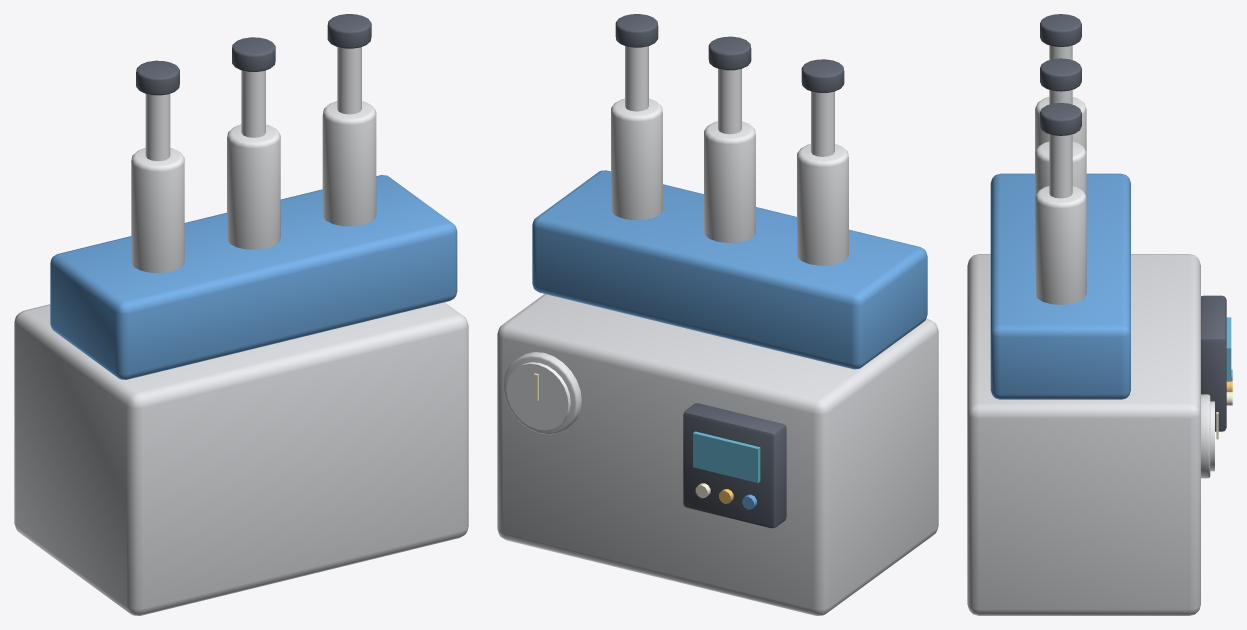
File: Homogenizator.fbx
The picture shows the model from 3 angles, left to right: view 1: azimuth 30°, elevation 25°; view 2: azimuth 150°, elevation 25°; view 3: azimuth 270°, elevation 25°; orthographic projection. The views are drawn at different scales.
Visible parts, largest first — view 1: Maszyna_Homogenizator_Korpus, Maszyna_Homogenizator; view 2: Maszyna_Homogenizator_Korpus, Maszyna_Homogenizator; view 3: Maszyna_Homogenizator_Korpus, Maszyna_Homogenizator.
Boxes of the visible parts, left/top/right/bottom form: Maszyna_Homogenizator_Korpus: left=14, top=101, right=468, bottom=615; Maszyna_Homogenizator: left=136, top=14, right=371, bottom=161; Maszyna_Homogenizator_Korpus: left=497, top=98, right=938, bottom=615; Maszyna_Homogenizator: left=615, top=14, right=844, bottom=156; Maszyna_Homogenizator_Korpus: left=967, top=97, right=1232, bottom=615; Maszyna_Homogenizator: left=1040, top=14, right=1081, bottom=198.
Bounding box in the file's own units: 1.6 × 2.4 × 1.13.
